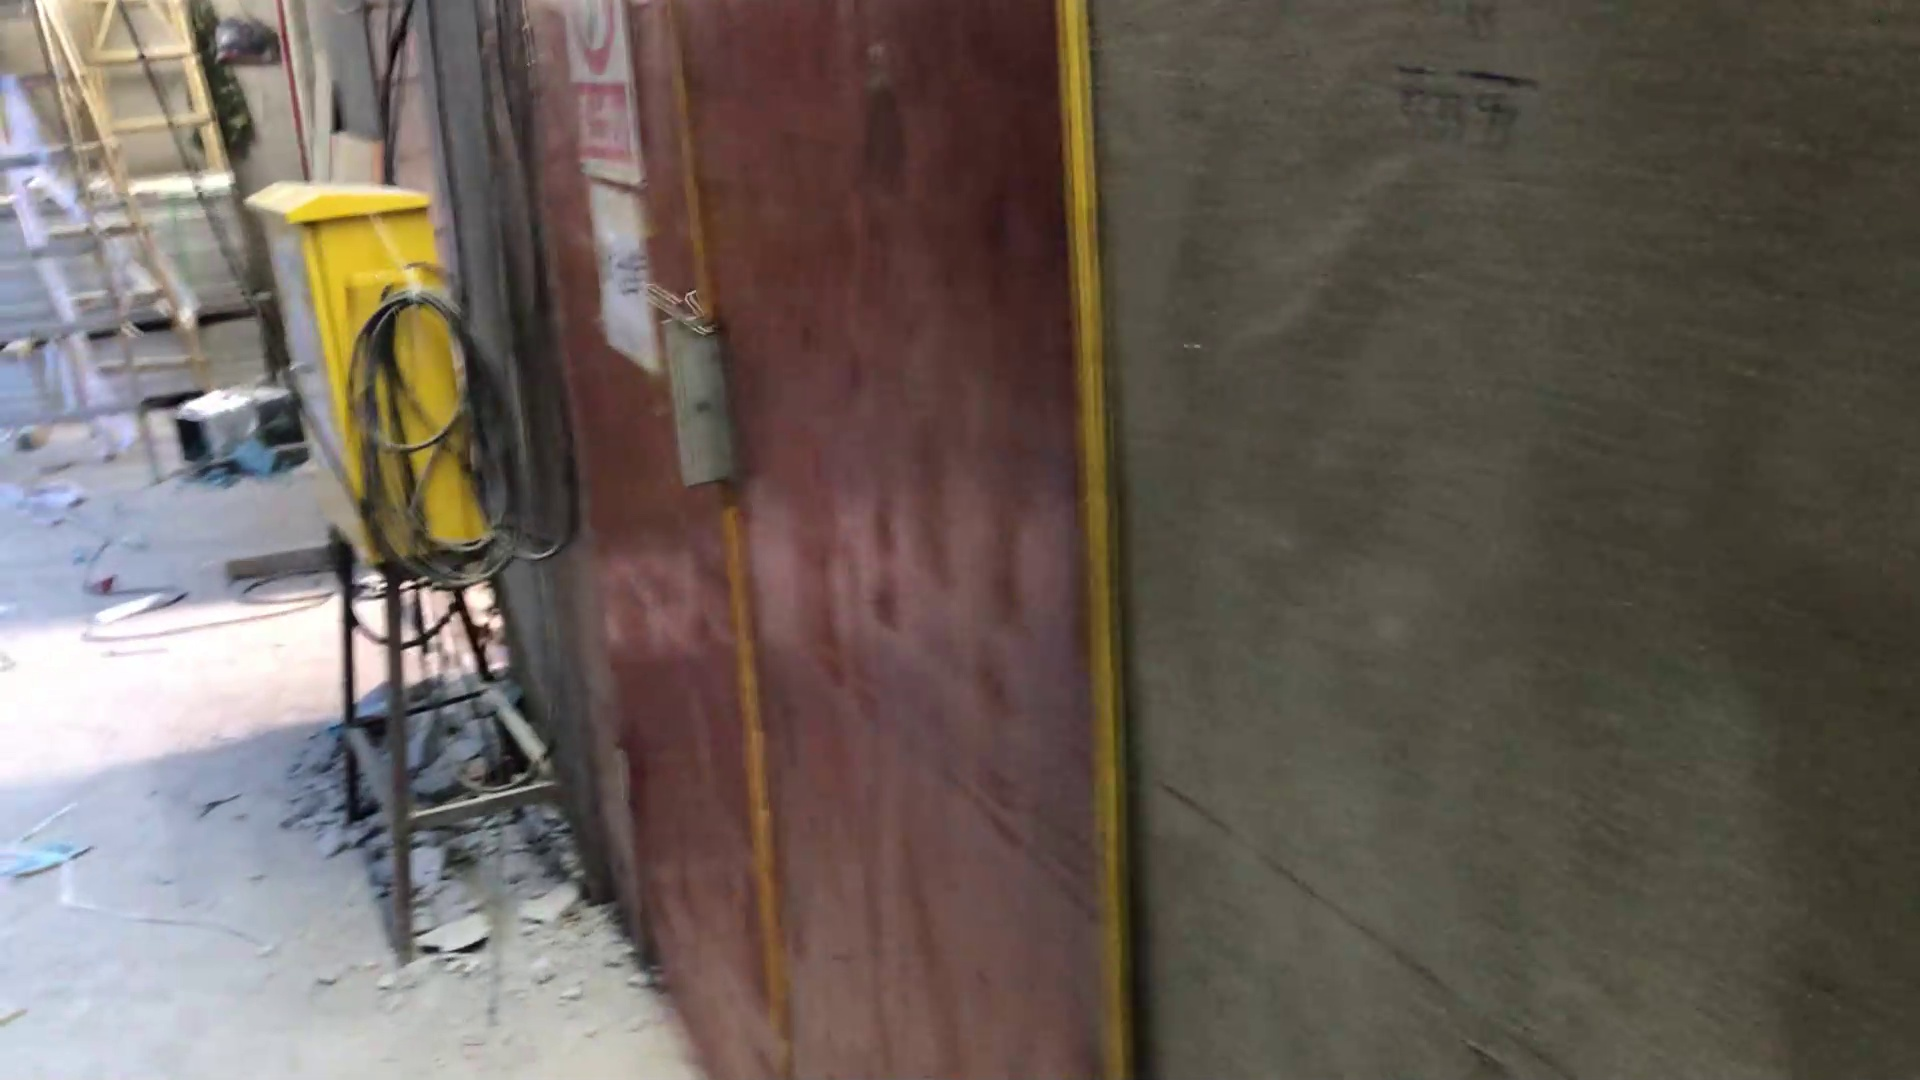ebox: (218, 175, 556, 951)
